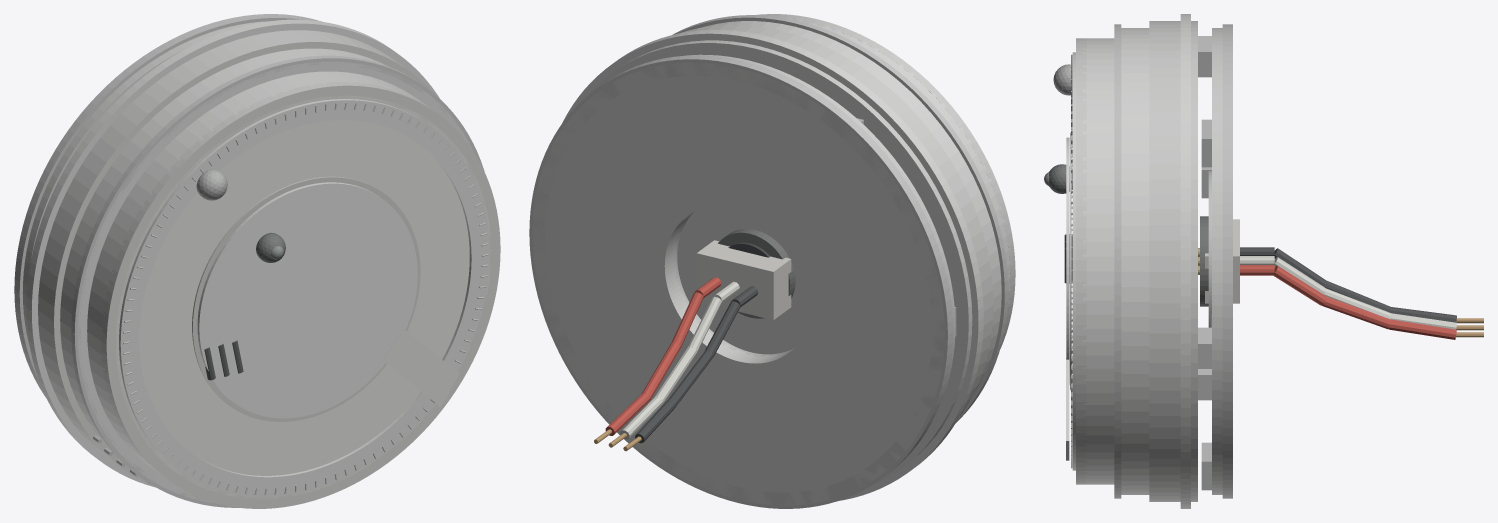
Rendered from smoke_detector.glb.
3 views of the same model, side by side, from view 1: azimuth 30°, elevation 25°; view 2: azimuth 150°, elevation 25°; view 3: azimuth 270°, elevation 25° (orthographic).
Parts seen in each view (by area): view 1: SmokeDetector, SmokeBase; view 2: SmokeBase, SmokeDetector, SmokeHarness; view 3: SmokeDetector, SmokeBase, SmokeHarness.
Boxes of the visible parts, x1,y1,x2,y2 form: SmokeDetector: (26, 19, 500, 508); SmokeBase: (14, 14, 321, 397); SmokeBase: (529, 54, 956, 508); SmokeDetector: (562, 14, 1015, 500); SmokeHarness: (594, 240, 791, 451); SmokeDetector: (1049, 14, 1211, 508); SmokeBase: (1201, 24, 1232, 498); SmokeHarness: (1198, 219, 1483, 339).
Size of the model in its own units: 0.142 by 0.142 by 0.1262.
